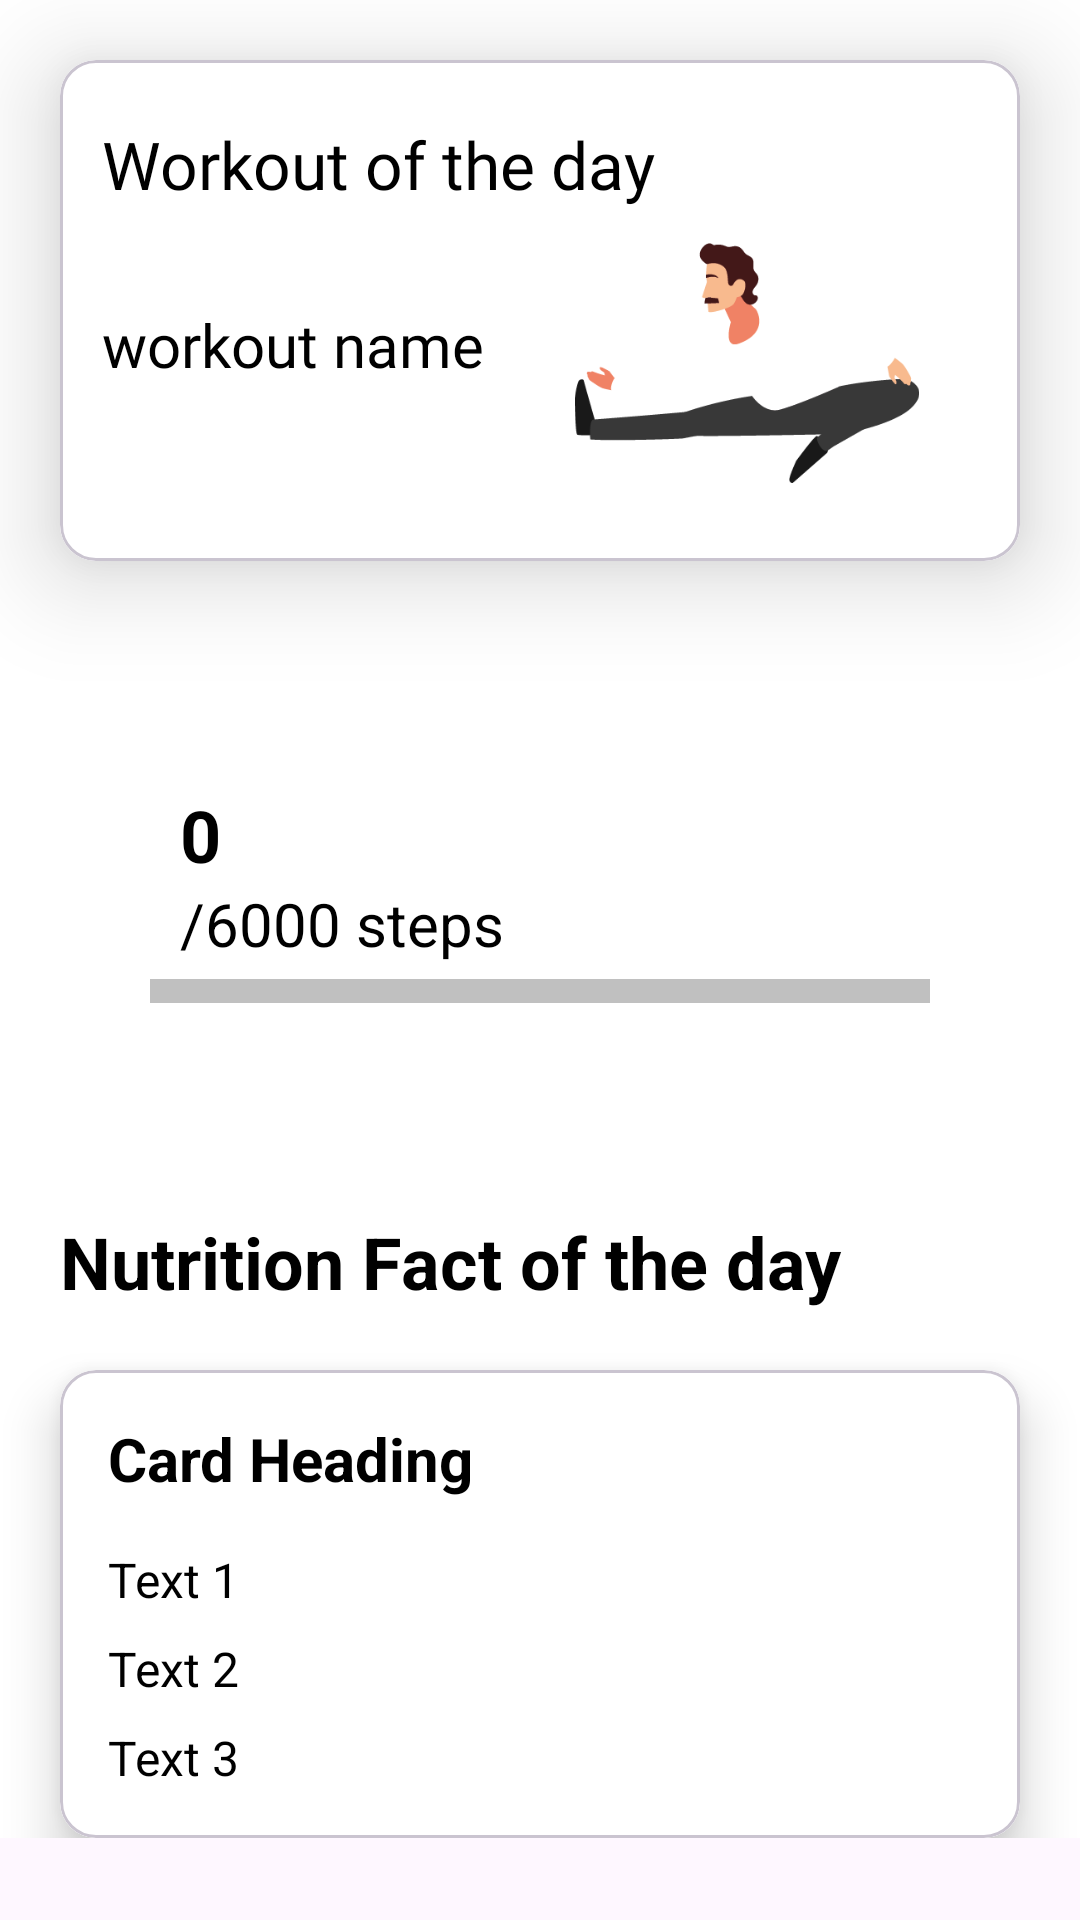

Screen size 1080px×1920px. Icon name, then its center in pixels as [x,y]:
sretching: [747,363]
